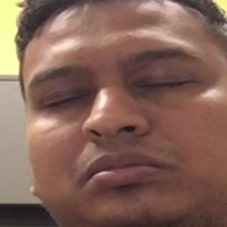drowsy: (26, 46, 208, 193)
